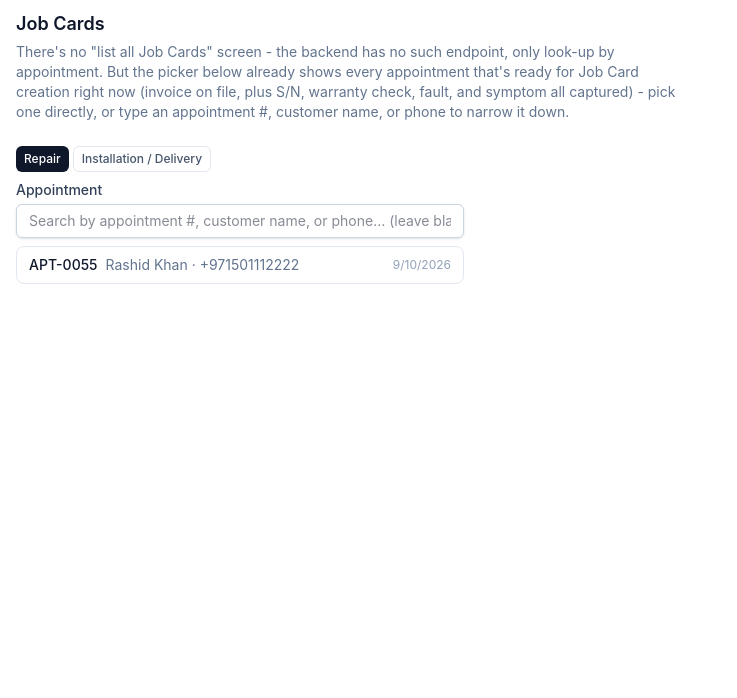
Test: JobCardsPage - JOB_CARD_MANAGE capability gate › shows Validate Serial Number (OPEN-status job card) once JOB_CARD_MANAGE is granted
Click the text "APT-0055": (63, 264) [29,256,98,273]
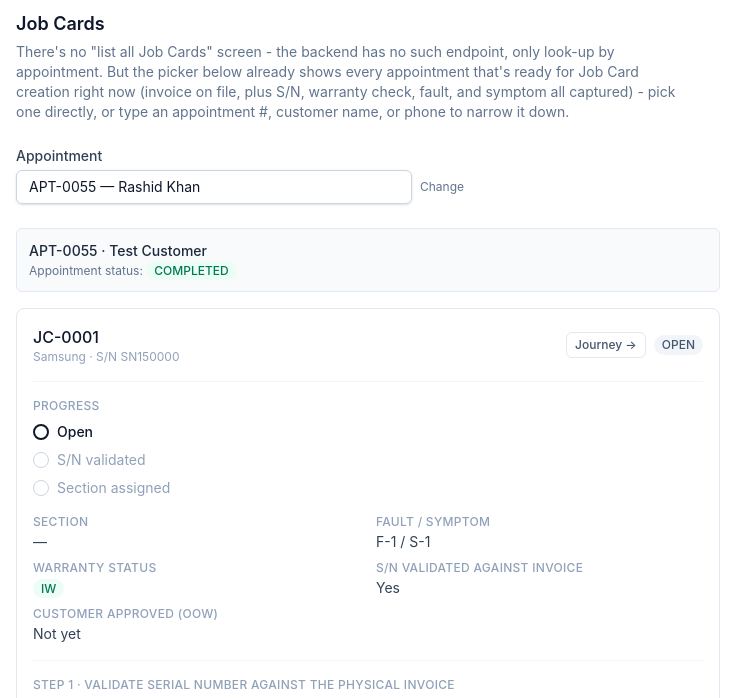
Expected: the text "Step 1 · Validate serial number against the physical invoice" is shown, [33,677,455,692]
